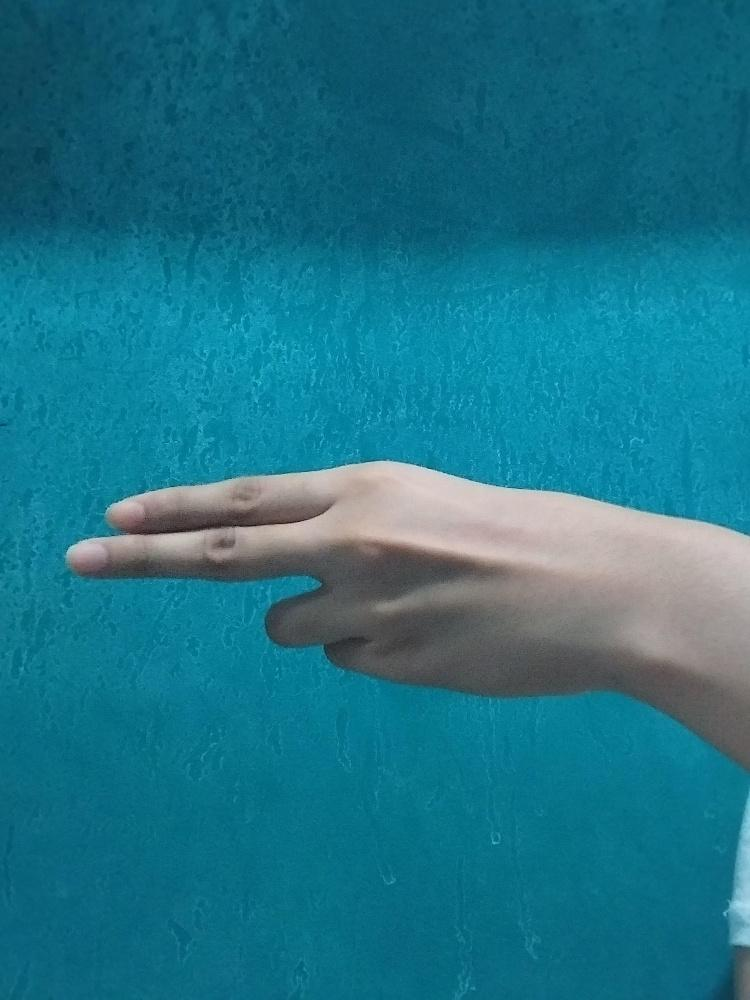h: (56, 459, 576, 699)
